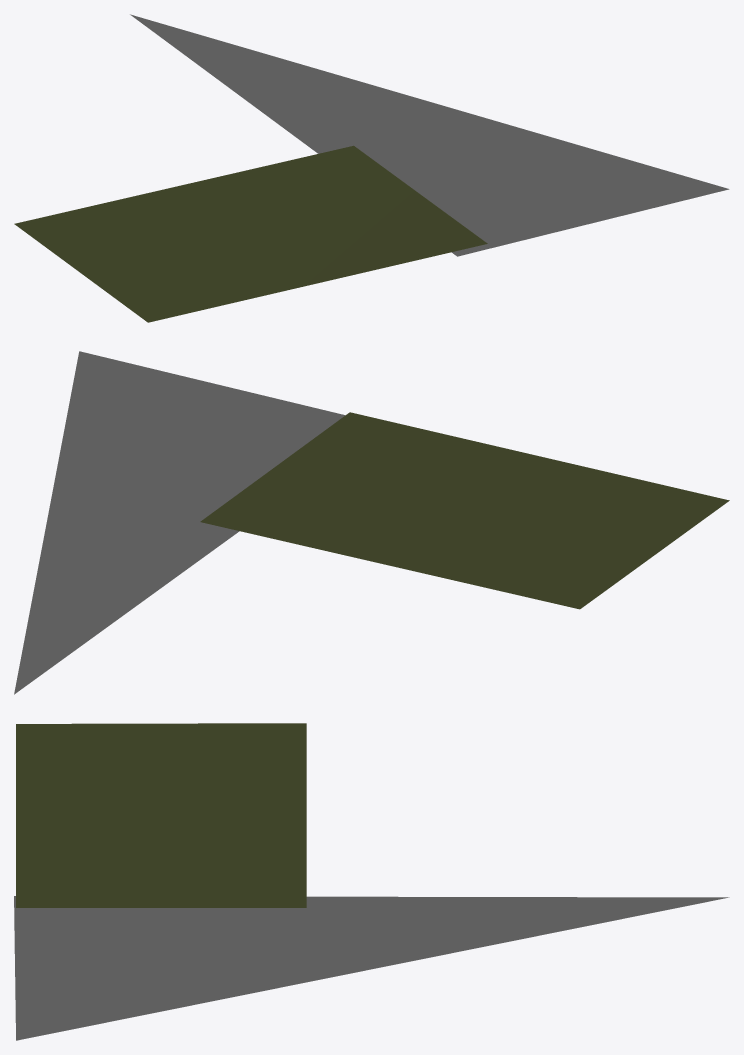
3 views of the same model, one above another, from view 1: azimuth 30°, elevation 25°; view 2: azimuth 150°, elevation 25°; view 3: azimuth 270°, elevation 25° (orthographic). The views are drawn at different scales.
Parts seen in each view (by area): view 1: merged__lod1; view 2: merged__lod1; view 3: merged__lod1.
Part boxes in pixels (x1,y1,x2,y2): merged__lod1: (14, 14, 729, 322); merged__lod1: (14, 351, 729, 694); merged__lod1: (14, 723, 729, 1040).
Size of the model in its own units: 171 by 2.57 by 168.
